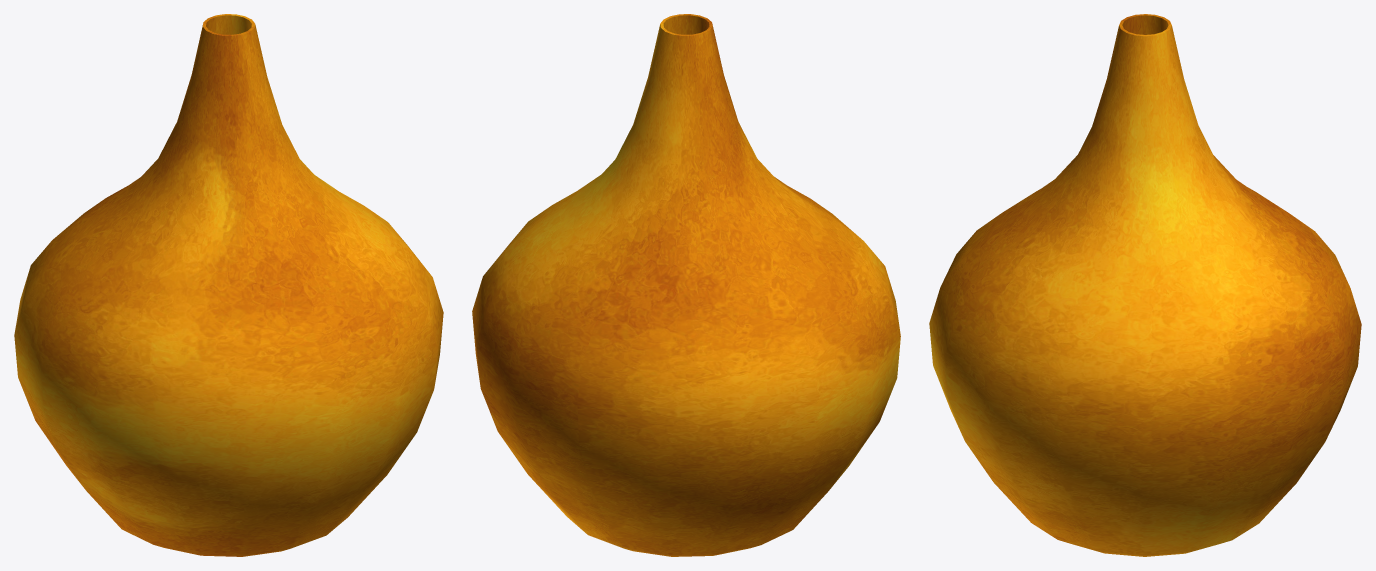
The model's file is Vase2.FBX.
The picture shows the model from 3 angles, left to right: view 1: azimuth 30°, elevation 25°; view 2: azimuth 150°, elevation 25°; view 3: azimuth 270°, elevation 25°; orthographic projection.
Parts seen in each view (by area): view 1: Vase 2; view 2: Vase 2; view 3: Vase 2.
Part boxes in pixels (x1,y1,x2,y2): Vase 2: (14,14,443,556); Vase 2: (472,14,900,556); Vase 2: (929,14,1361,556).
Bounding box in the file's own units: 28.59 × 35.56 × 28.59.
1 material, 1 textured.
